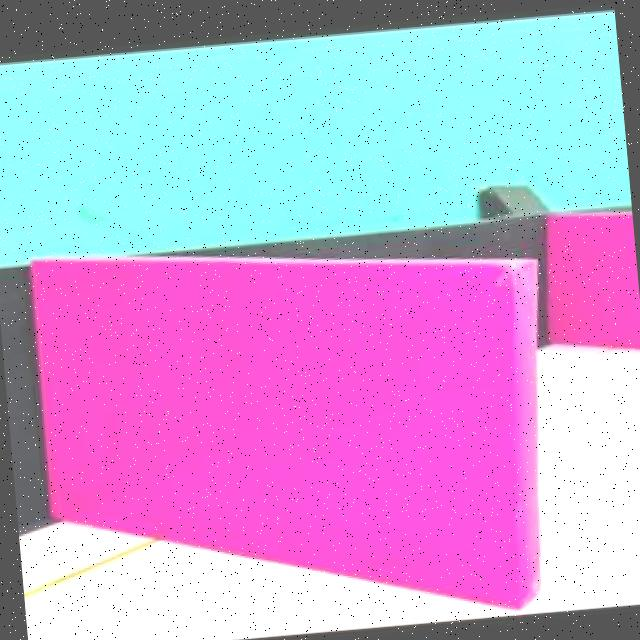xparking: (31, 258, 539, 594), (547, 213, 640, 347)
